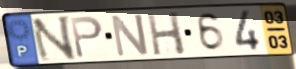4: (233, 8, 262, 53)
6: (195, 12, 227, 53)
H: (144, 10, 188, 57)
N: (29, 14, 78, 64), (109, 12, 151, 59)
P: (68, 15, 105, 61)
